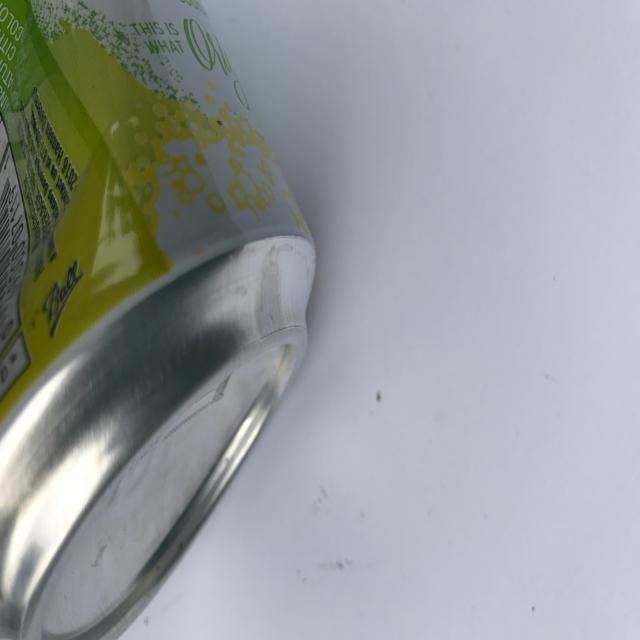metal: (0, 1, 319, 640)
